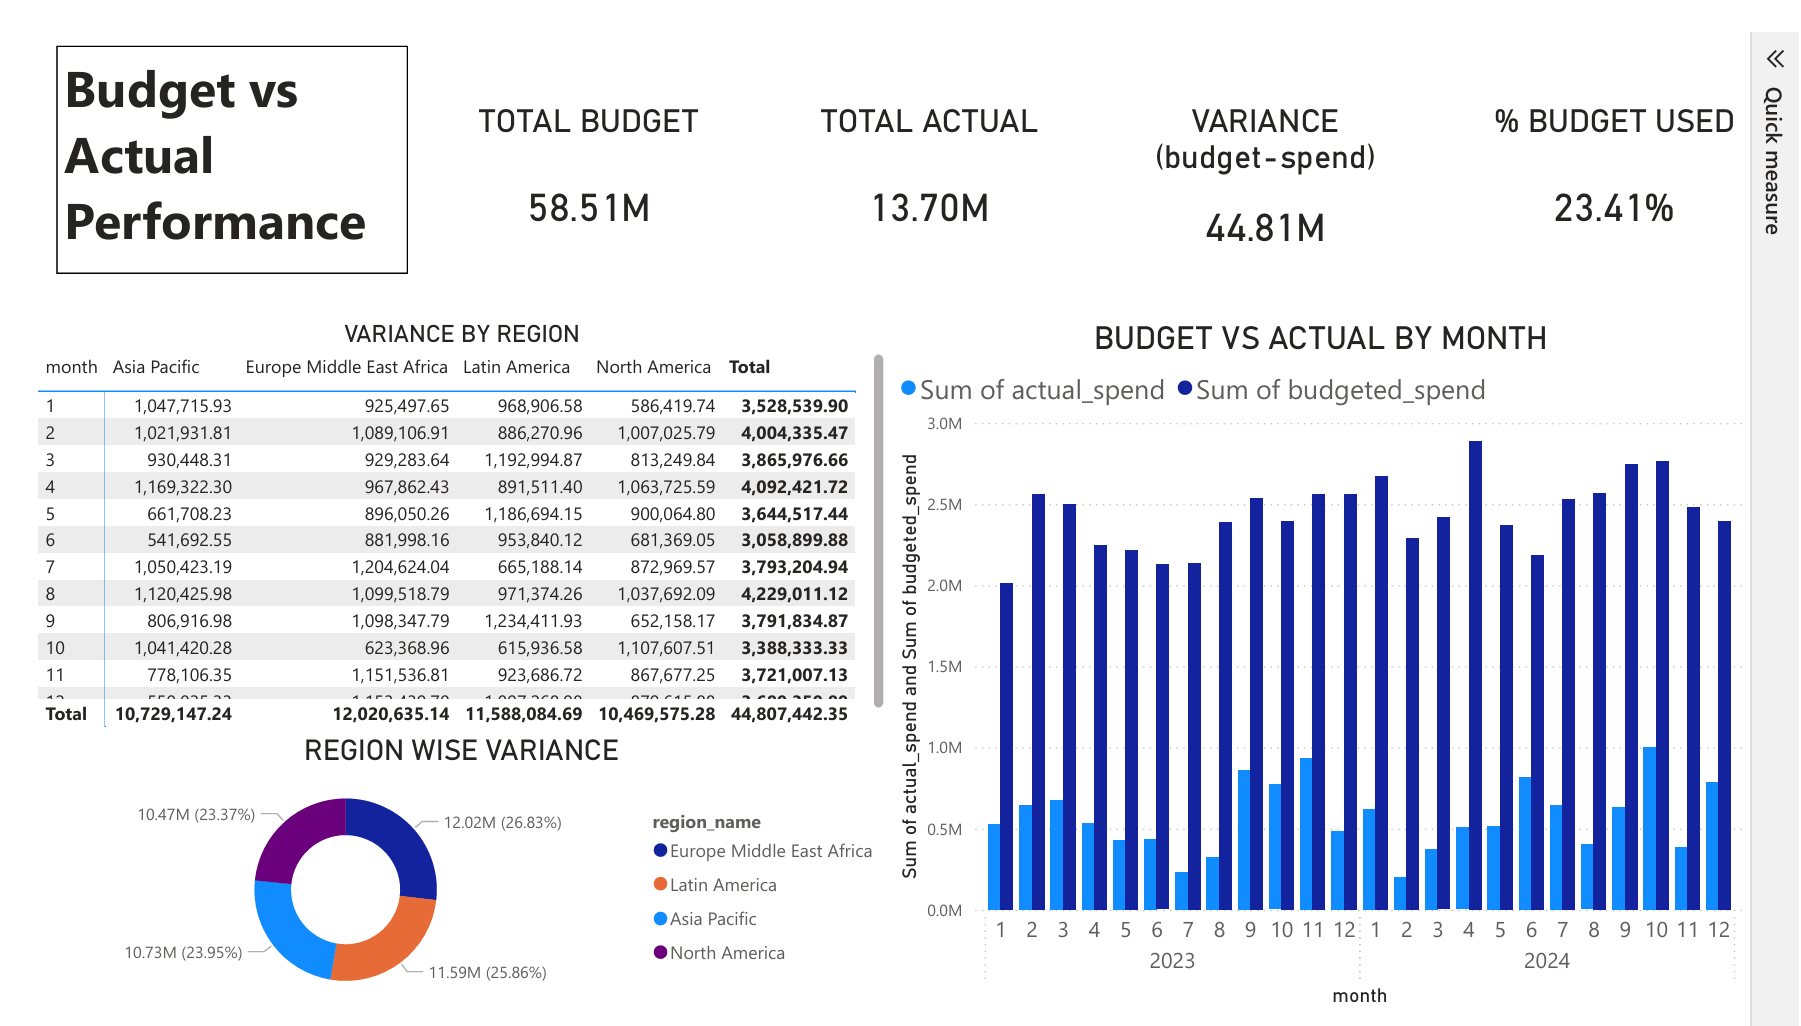

The page's visual inventory and layout, read from the dashboard file:
{"tool":"powerbi","page":{"name":"Budget_vs_actual_performance","canvas":[1280,720],"ordinal":1},"visuals":[{"type":"card","title":"TOTAL BUDGET","fields":{"Values":["Sum(analytics vw_budget_vs_actual (3).budgeted_spend)"]},"box":[313.5,41.7,201.3,126.9],"z":0},{"type":"card","title":"TOTAL ACTUAL","fields":{"Values":["Sum(analytics vw_budget_vs_actual (3).actual_spend)"]},"box":[567.8,41.7,201.3,126.9],"z":1000},{"type":"card","title":"VARIANCE (budget-spend)","fields":{"Values":["Sum(analytics vw_budget_vs_actual (3).variance)"]},"box":[817.6,41.7,201.3,126.9],"z":2000},{"type":"card","title":"% BUDGET USED","fields":{"Values":["analytics vw_budget_vs_actual (3).% Budget Used"]},"box":[1078.1,41.7,201.3,126.9],"z":3000},{"type":"textbox","box":[18,0,262,170],"z":4000},{"type":"clusteredColumnChart","title":"BUDGET VS ACTUAL BY MONTH","fields":{"Category":["analytics vw_budget_vs_actual (3).year","analytics vw_budget_vs_actual (3).month"],"Y":["Sum(analytics vw_budget_vs_actual (3).actual_spend)","Sum(analytics vw_budget_vs_actual (3).budgeted_spend)"]},"box":[640,204,640,516],"z":5000},{"type":"pivotTable","title":"VARIANCE BY REGION","fields":{"Columns":["analytics vw_budget_vs_actual (3).region_name"],"Values":["Sum(analytics vw_budget_vs_actual (3).variance)"],"Rows":["analytics vw_budget_vs_actual (3).month"]},"box":[0,204,640,308],"z":6000},{"type":"donutChart","title":"REGION WISE VARIANCE","fields":{"Category":["analytics vw_budget_vs_actual (3).region_name"],"Y":["Sum(analytics vw_budget_vs_actual (3).variance)"]},"box":[0,512,640,208],"z":7000}]}

Visuals, with their boxes on the page's 1280x720 design canvas (x1, y1, x2, y2). These are canvas units, not pixel positions in the 1801x1026 screenshot, which may show the page scaled, cropped or inside an application window:
"TOTAL BUDGET" card: 314/42/515/169
"TOTAL ACTUAL" card: 568/42/769/169
"VARIANCE (budget-spend)" card: 818/42/1019/169
"% BUDGET USED" card: 1078/42/1279/169
textbox: 18/0/280/170
"BUDGET VS ACTUAL BY MONTH" clusteredColumnChart: 640/204/1280/720
"VARIANCE BY REGION" pivotTable: 0/204/640/512
"REGION WISE VARIANCE" donutChart: 0/512/640/720
